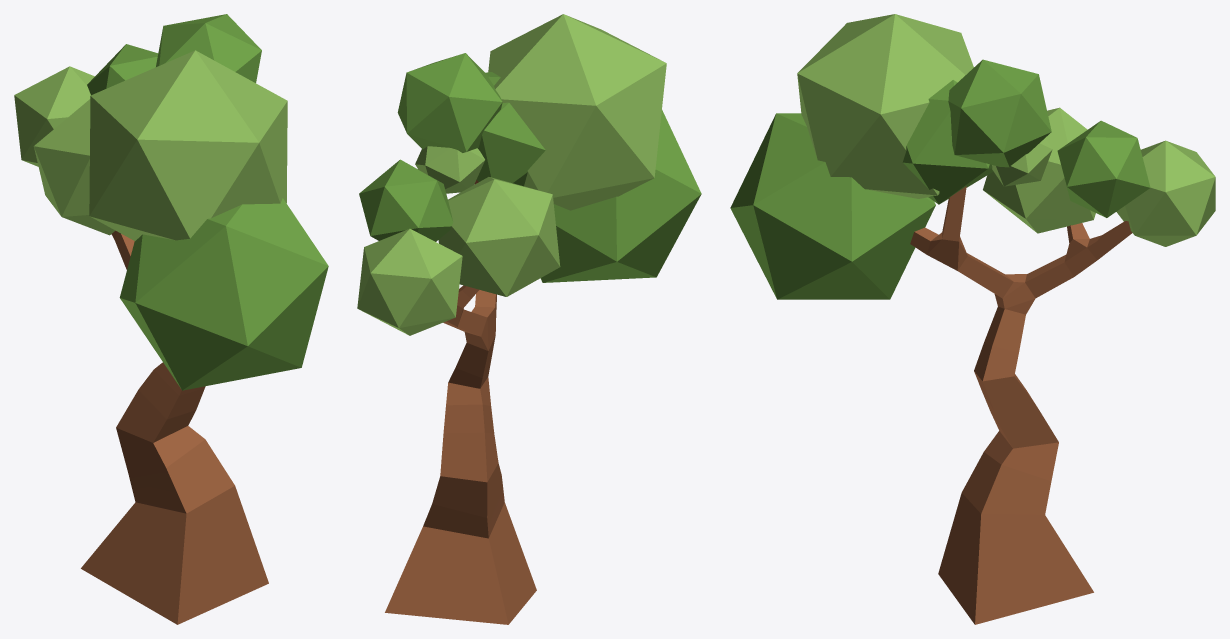
The model's file is arvore1.fbx.
The picture shows the model from 3 angles, left to right: view 1: azimuth 30°, elevation 25°; view 2: azimuth 150°, elevation 25°; view 3: azimuth 270°, elevation 25°; orthographic projection. The views are drawn at different scales.
Visible parts, largest first — view 1: Icosphere.025, Icosphere.024, Cube.004, Icosphere.023, Icosphere.026, Icosphere.020, Icosphere.027; view 2: Icosphere.025, Cube.004, Icosphere.024, Icosphere.023, Icosphere.020, Icosphere.026, Icosphere.027, Icosphere.022, Icosphere.021; view 3: Cube.004, Icosphere.024, Icosphere.025, Icosphere.026, Icosphere.020, Icosphere.027, Icosphere.023, Icosphere.022, Icosphere.021.
Boxes of the visible parts, x1,y1,x2,y2 form: Icosphere.025: (89,50,287,240); Icosphere.024: (119,198,328,390); Cube.004: (81,230,268,624); Icosphere.023: (34,99,115,235); Icosphere.026: (156,14,261,82); Icosphere.020: (14,66,94,166); Icosphere.027: (87,44,158,95); Icosphere.025: (488,14,666,210); Cube.004: (385,180,536,624); Icosphere.024: (540,110,701,282); Icosphere.023: (438,177,560,296); Icosphere.020: (357,228,462,335); Icosphere.026: (397,53,502,152); Icosphere.027: (359,159,453,241); Icosphere.022: (476,72,545,186); Icosphere.021: (415,146,484,193); Cube.004: (910,186,1132,624); Icosphere.024: (730,113,935,299); Icosphere.025: (797,14,973,198); Icosphere.026: (948,59,1051,167); Icosphere.020: (1116,140,1215,246); Icosphere.027: (1057,120,1150,217); Icosphere.023: (983,107,1095,233); Icosphere.022: (902,80,993,204); Icosphere.021: (992,138,1052,186).
Bounding box in the file's own units: 313 × 806 × 636.
